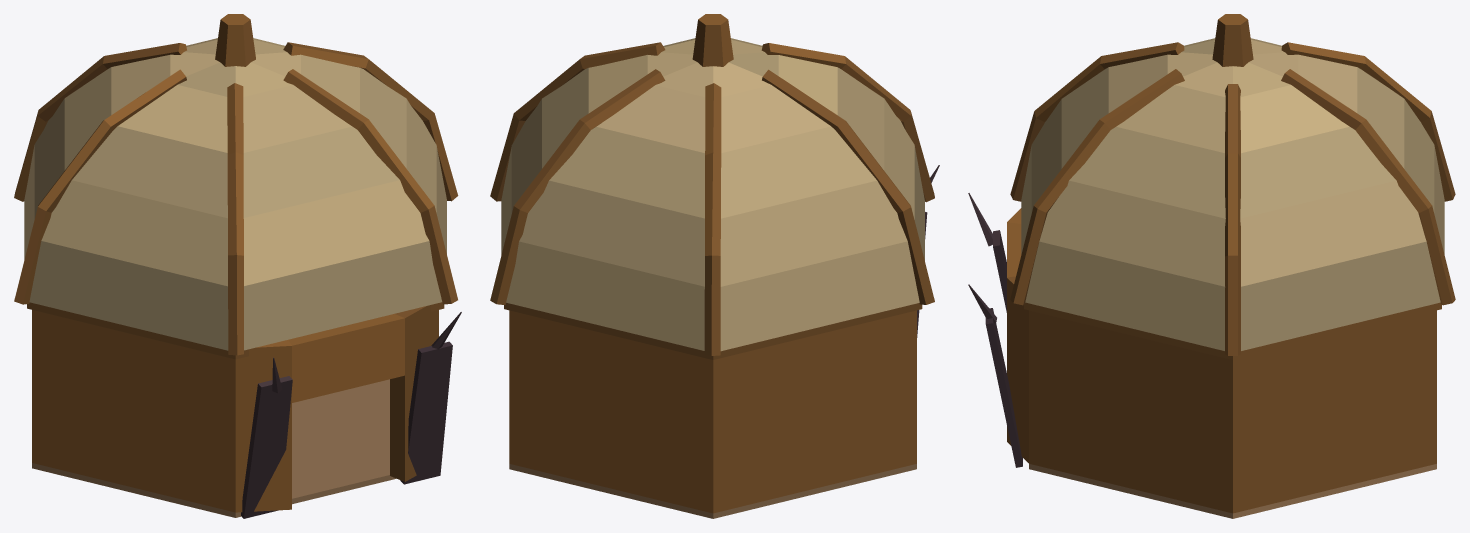
The model's file is walk_hive_house.glb.
3 renders of one model, left to right at view 1: azimuth 30°, elevation 25°; view 2: azimuth 150°, elevation 25°; view 3: azimuth 270°, elevation 25°, orthographic.
Visible parts, largest first — view 1: walk_hive_house_roof, walk_hive_house; view 2: walk_hive_house_roof, walk_hive_house; view 3: walk_hive_house_roof, walk_hive_house.
Part boxes in pixels (x1,y1,x2,y2): walk_hive_house_roof: (14,14,458,359); walk_hive_house: (32,305,461,518); walk_hive_house_roof: (490,14,934,359); walk_hive_house: (509,165,939,518); walk_hive_house_roof: (1010,14,1455,359); walk_hive_house: (968,193,1436,518).
Size of what is drawn, in the model's own units: 8.46 by 7.33 by 8.08.
Materials: 2 (2 with a texture image).
